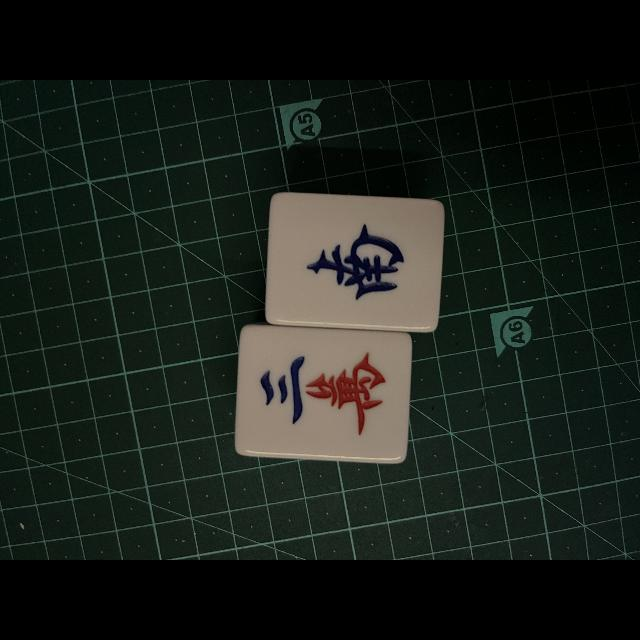c3: (237, 328, 408, 458)
ws: (268, 195, 440, 328)
